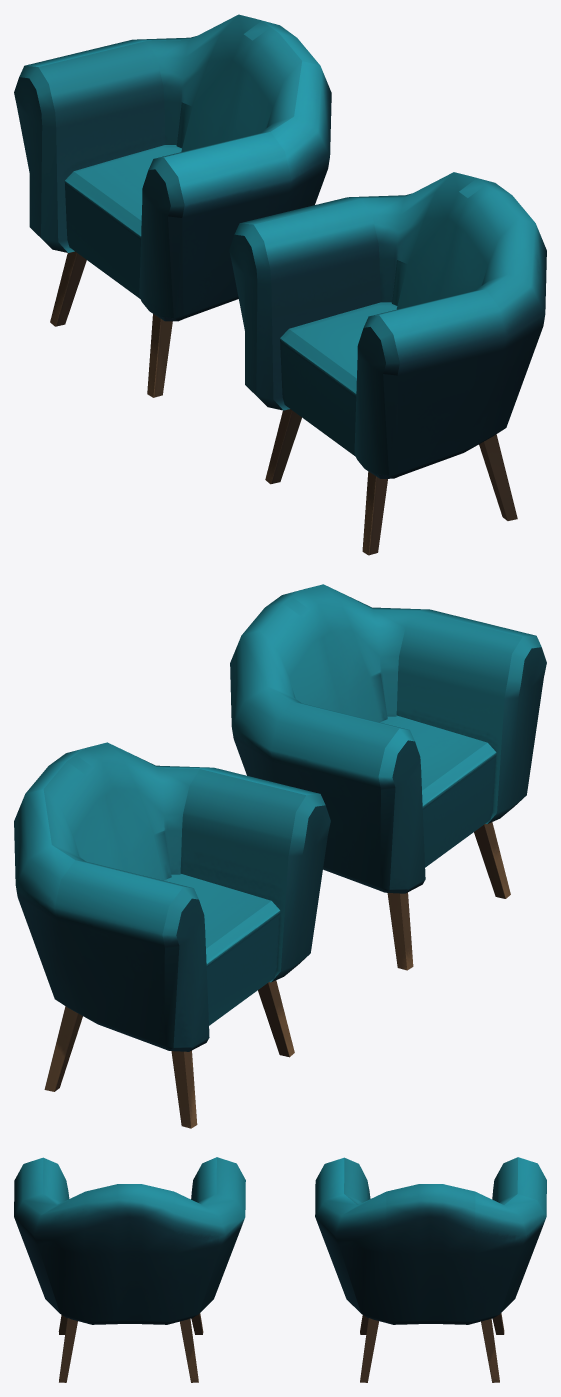
The model's file is Tx_prop_chair_2.fbx.
3 renders of one model, top to bottom at view 1: azimuth 30°, elevation 25°; view 2: azimuth 150°, elevation 25°; view 3: azimuth 270°, elevation 25°, orthographic. The views are drawn at different scales.
Visible parts, largest first — view 1: Tx_prop_chair_11; view 2: Tx_prop_chair_11; view 3: Tx_prop_chair_11.
Boxes of the visible parts, x1=… form: Tx_prop_chair_11: x1=14, y1=14, x2=546, y2=555; Tx_prop_chair_11: x1=14, y1=584, x2=546, y2=1128; Tx_prop_chair_11: x1=14, y1=1157, x2=546, y2=1382.
Size of the model in its own units: 2.86 by 3.8 by 8.95.
